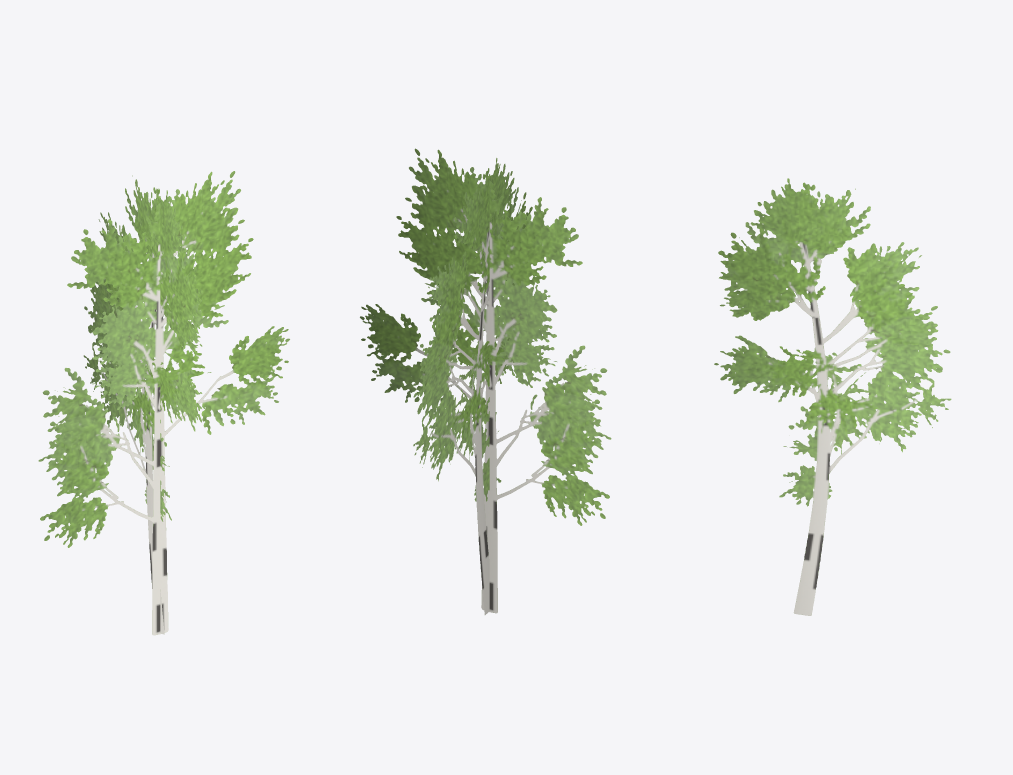
The model's file is birch_1_far.glb.
The picture shows the model from 3 angles, left to right: view 1: azimuth 30°, elevation 25°; view 2: azimuth 150°, elevation 25°; view 3: azimuth 270°, elevation 25°; orthographic projection. The views are drawn at different scales.
Parts seen in each view (by area): view 1: birch_1_far; view 2: birch_1_far; view 3: birch_1_far.
Part boxes in pixels (x1,y1,x2,y2): birch_1_far: [38, 171, 289, 635]; birch_1_far: [360, 148, 611, 614]; birch_1_far: [714, 178, 951, 615].
Bounding box in the file's own units: 6.66 × 13.31 × 6.66.
1 material, 1 textured.
